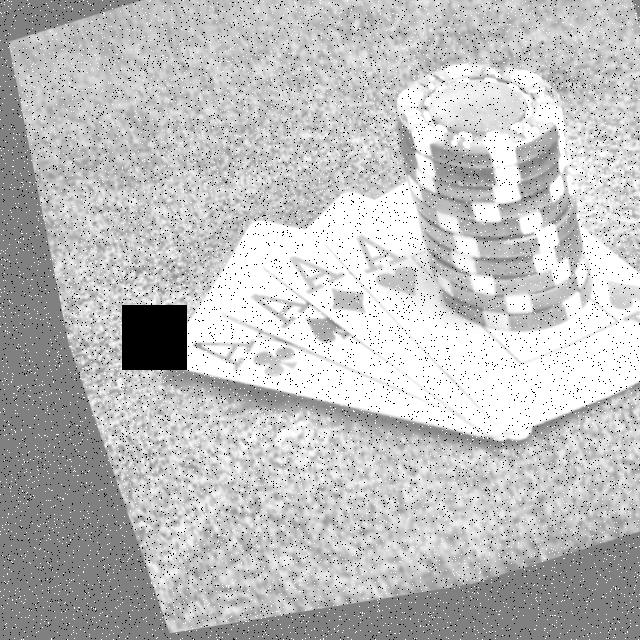Chip: (348, 34, 620, 375)
